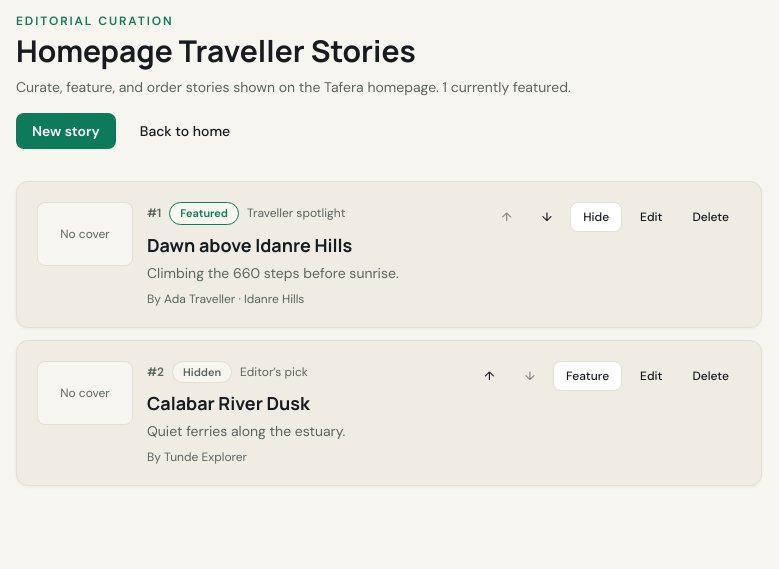
Test: Admin editorial curation page › reorders stories via PUT /api/stories/reorder and rolls back failed deletes
The width and height of the screenshot is (779, 569).
expect the heading "Calabar River Dusk" is shown: met, box [147,391,310,415]
Click the button named "Move Calabar River Dusk up" at (490, 376), box [472,362,507,390]
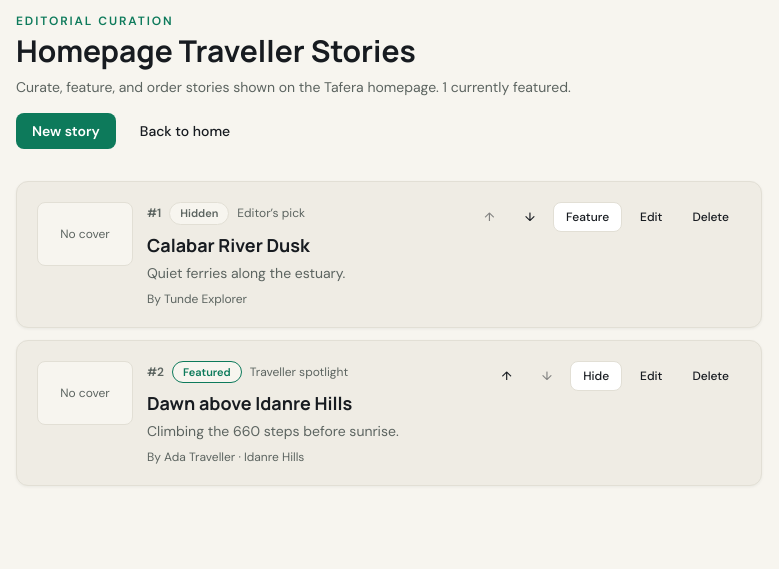
expect the heading "Calabar River Dusk" is shown: met, box [147,232,310,256]
Click the button with aria-label "Delete Calabar River Dusk" at (711, 217), box [680,203,741,231]
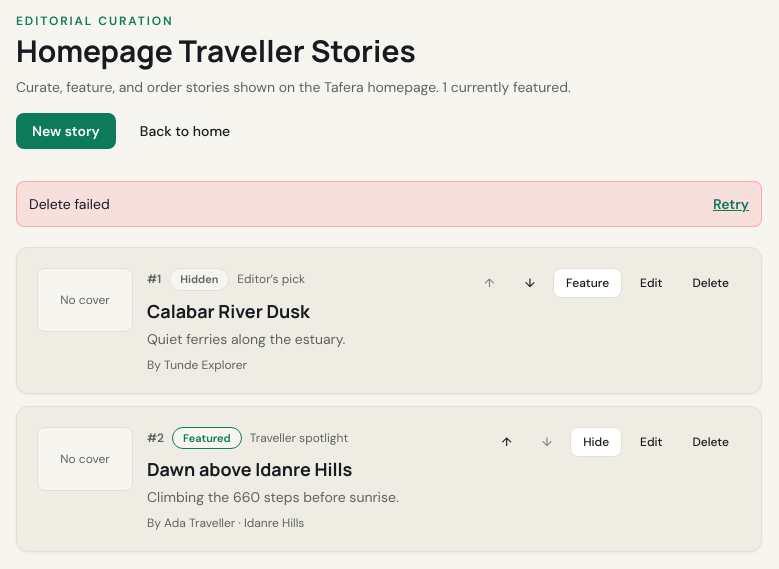
expect the heading "Calabar River Dusk" is shown: met, box [147,298,310,322]
expect the message shows "Delete failed": met, box [29,195,110,213]
